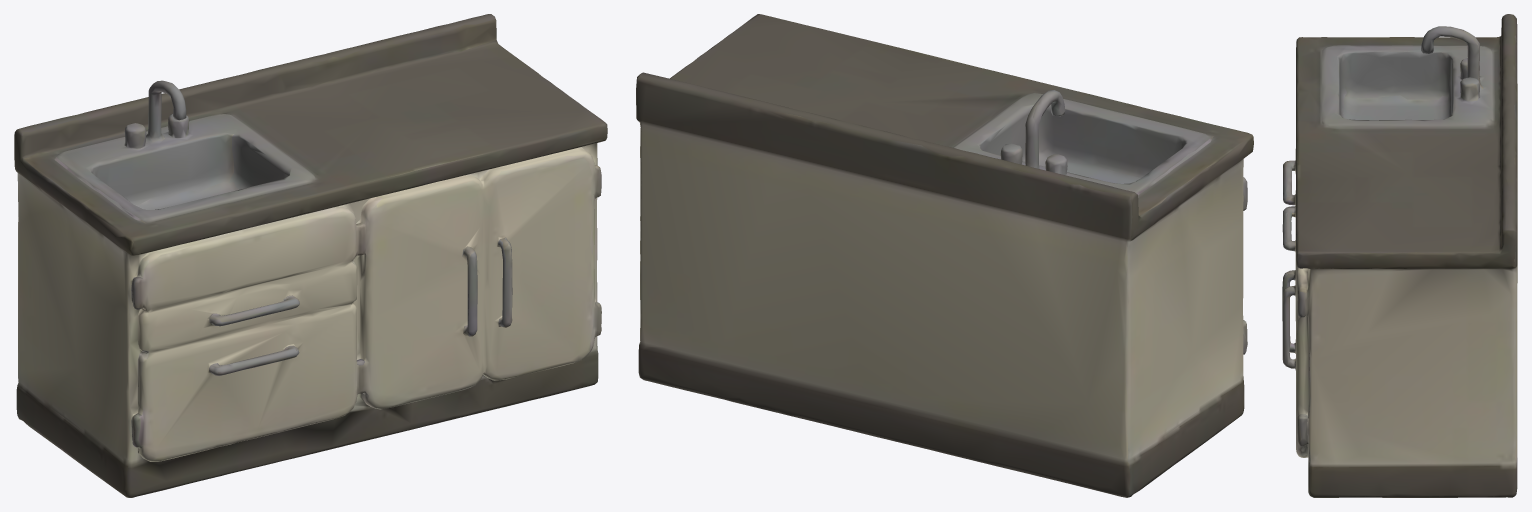
Rendered from kitchen_counter.glb.
3 renders of one model, left to right at view 1: azimuth 30°, elevation 25°; view 2: azimuth 150°, elevation 25°; view 3: azimuth 270°, elevation 25°, orthographic. The views are drawn at different scales.
Visible parts, largest first — view 1: geometry_0; view 2: geometry_0; view 3: geometry_0.
Boxes of the visible parts, left/top/right/bottom form: geometry_0: left=14, top=14, right=607, bottom=497; geometry_0: left=636, top=14, right=1253, bottom=497; geometry_0: left=1282, top=14, right=1517, bottom=497.
Size of the model in its own units: 1 by 0.6739 by 0.4607.
Materials: 1 (1 with a texture image).
